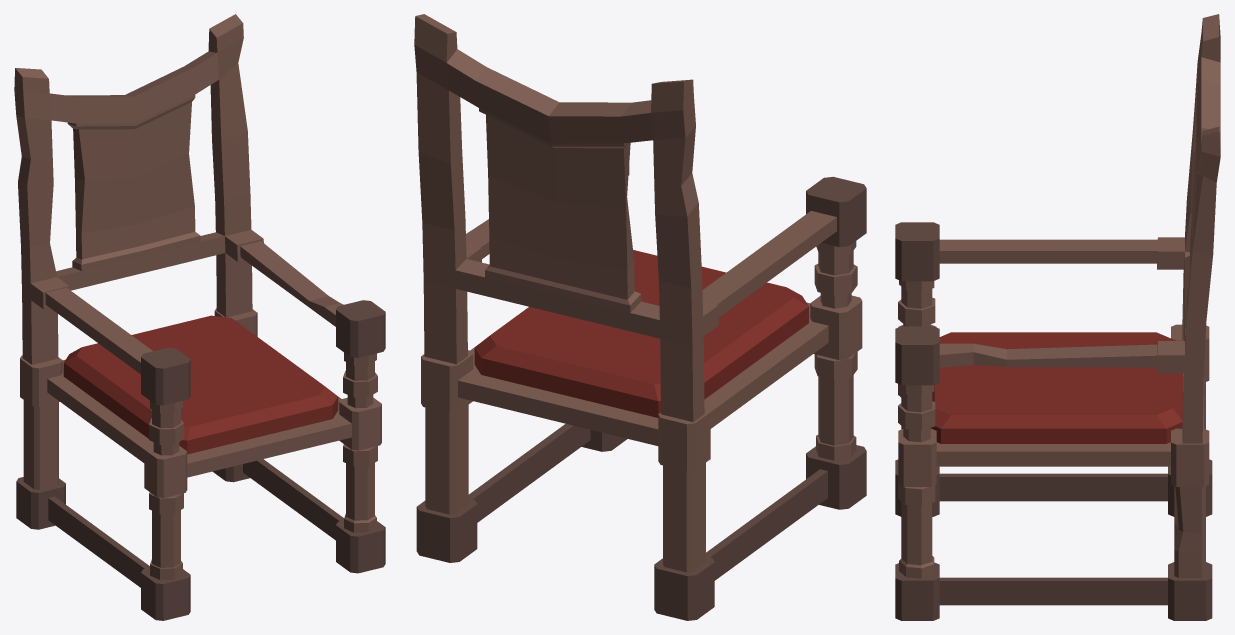
File: chair.glb
3 views of the same model, side by side, from view 1: azimuth 30°, elevation 25°; view 2: azimuth 150°, elevation 25°; view 3: azimuth 270°, elevation 25° (orthographic). The views are drawn at different scales.
Parts seen in each view (by area): view 1: Chair; view 2: Chair; view 3: Chair.
Boxes of the visible parts, box(x1,y1,x2,y2) form: Chair: box(14, 14, 385, 620); Chair: box(414, 14, 866, 620); Chair: box(895, 14, 1220, 620).
Size of the model in its own units: 0.627 by 1.16 by 0.7024.
